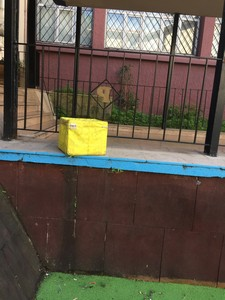cube: (58, 116, 108, 158)
